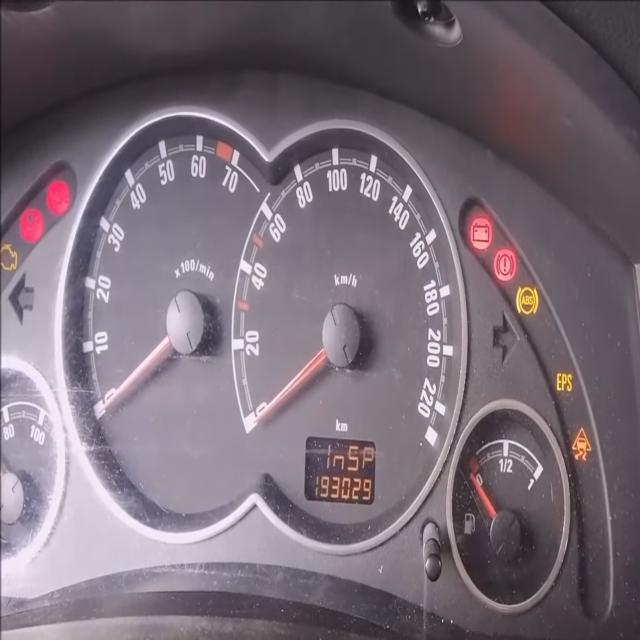Anti Lock Braking System: (516, 284, 540, 316)
Braking System Issue: (493, 246, 518, 283)
Charging System Issue: (468, 215, 492, 251)
Check Engine: (0, 243, 18, 272)
Electronic Stability Problem -ESP-: (571, 426, 592, 462)
Low Engine Oil Warning Light: (46, 180, 70, 216)
SRS-Airbag: (20, 208, 44, 242)
